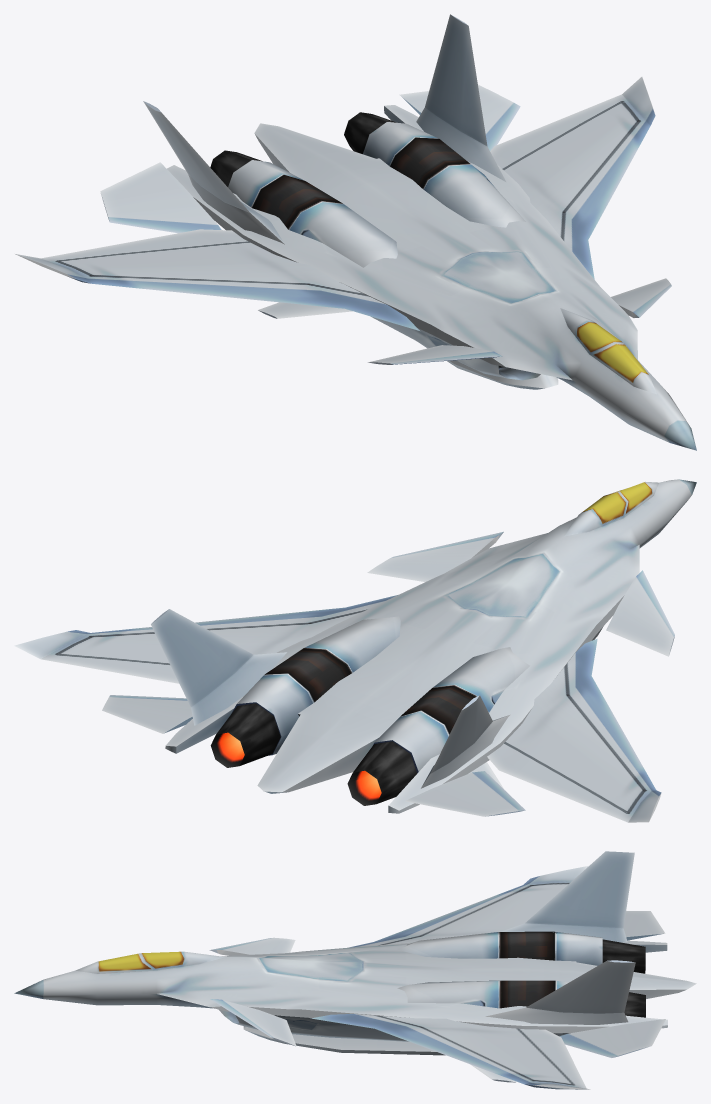
File: jet.glb
3 renders of one model, top to bottom at view 1: azimuth 30°, elevation 25°; view 2: azimuth 150°, elevation 25°; view 3: azimuth 270°, elevation 25°, orthographic. The views are drawn at different scales.
Visible parts, largest first — view 1: body, main_wing, engine, rudder, stablizer, canard, thruster, intake, pod_stablizer, weapon_pod; view 2: body, main_wing, engine, rudder, thruster, canard, stablizer; view 3: body, main_wing, rudder, engine, stablizer, canard, weapon_pod, intake, thruster.
Boxes of the visible parts, box(x1,y1,x2,y2) form: body: box(167, 105, 696, 450); main_wing: box(15, 77, 655, 330); engine: box(228, 122, 525, 267); rudder: box(143, 14, 505, 244); stablizer: box(100, 84, 520, 233); canard: box(368, 278, 671, 364); thruster: box(210, 112, 396, 186); intake: box(371, 316, 540, 380); pod_stablizer: box(258, 302, 352, 318); weapon_pod: box(417, 341, 558, 389); body: box(165, 479, 696, 813); main_wing: box(14, 595, 661, 822); engine: box(231, 616, 529, 773); rudder: box(151, 609, 510, 788); thruster: box(210, 703, 417, 805); canard: box(367, 531, 674, 656); stablizer: box(102, 695, 525, 816); body: box(14, 940, 696, 1033); main_wing: box(310, 866, 590, 1089); rudder: box(485, 851, 635, 1024); engine: box(397, 931, 602, 1036); stablizer: box(559, 911, 665, 1057); canard: box(209, 937, 296, 1046); weapon_pod: box(243, 1026, 445, 1055); intake: box(219, 1009, 409, 1041); thruster: box(602, 939, 645, 1017).
Bounding box in the file's own units: 19.33 × 5.3 × 23.06.
1 material, 1 textured.
